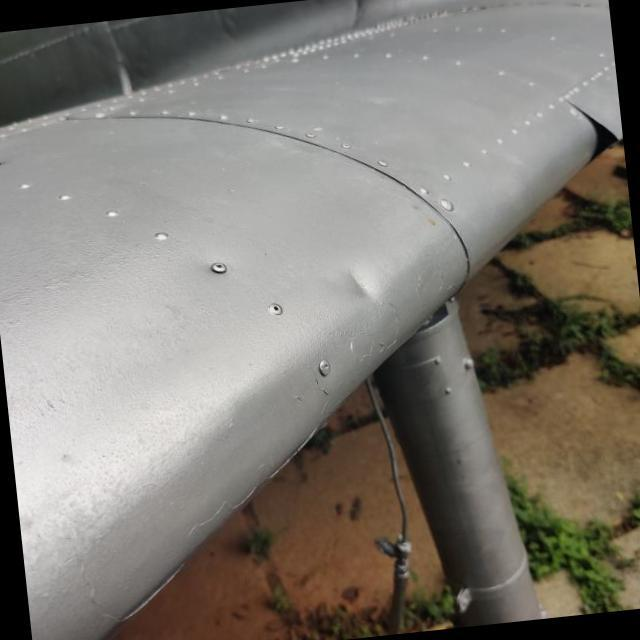Dent: (307, 232, 418, 342)
